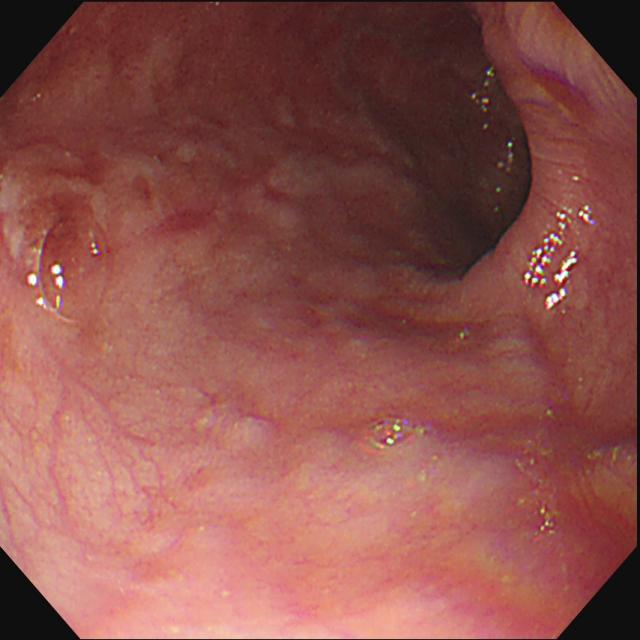A: (129, 118, 365, 258)
E: (416, 61, 553, 293)
T: (30, 211, 114, 328), (361, 412, 424, 453)
U: (523, 203, 597, 311), (471, 67, 501, 115), (499, 140, 519, 175)
